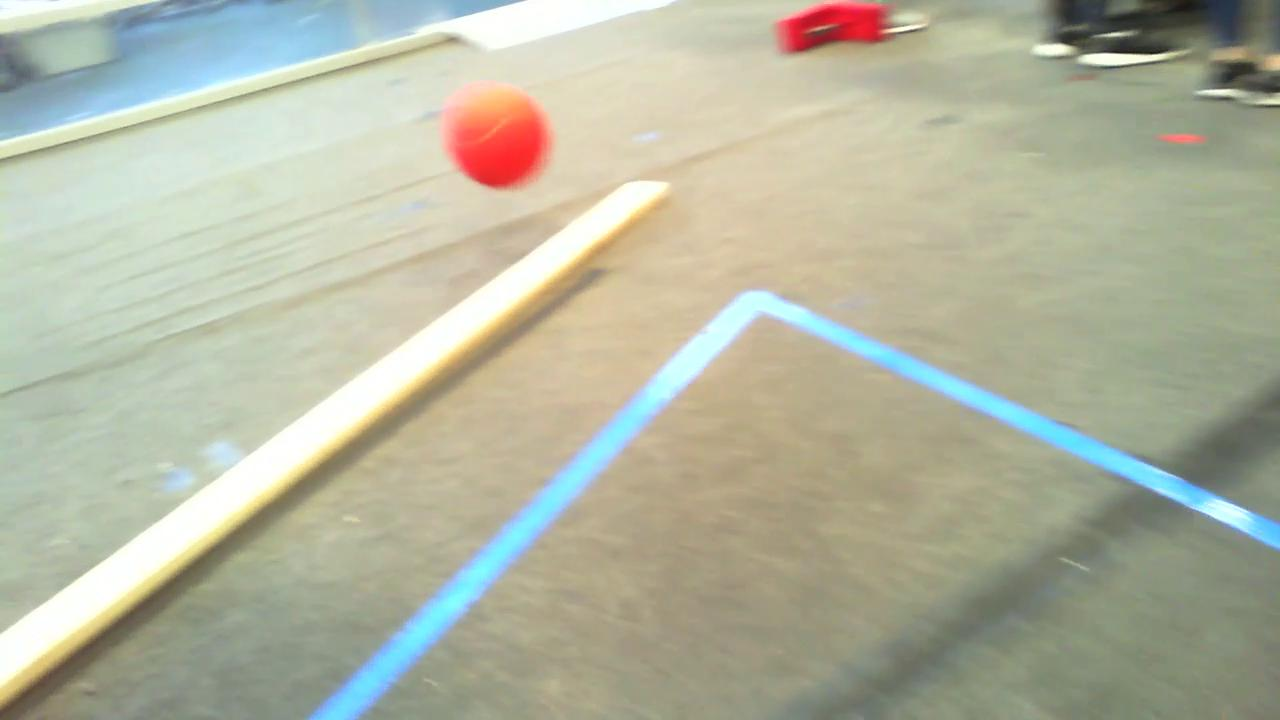Red_Ball: (435, 79, 550, 188)
